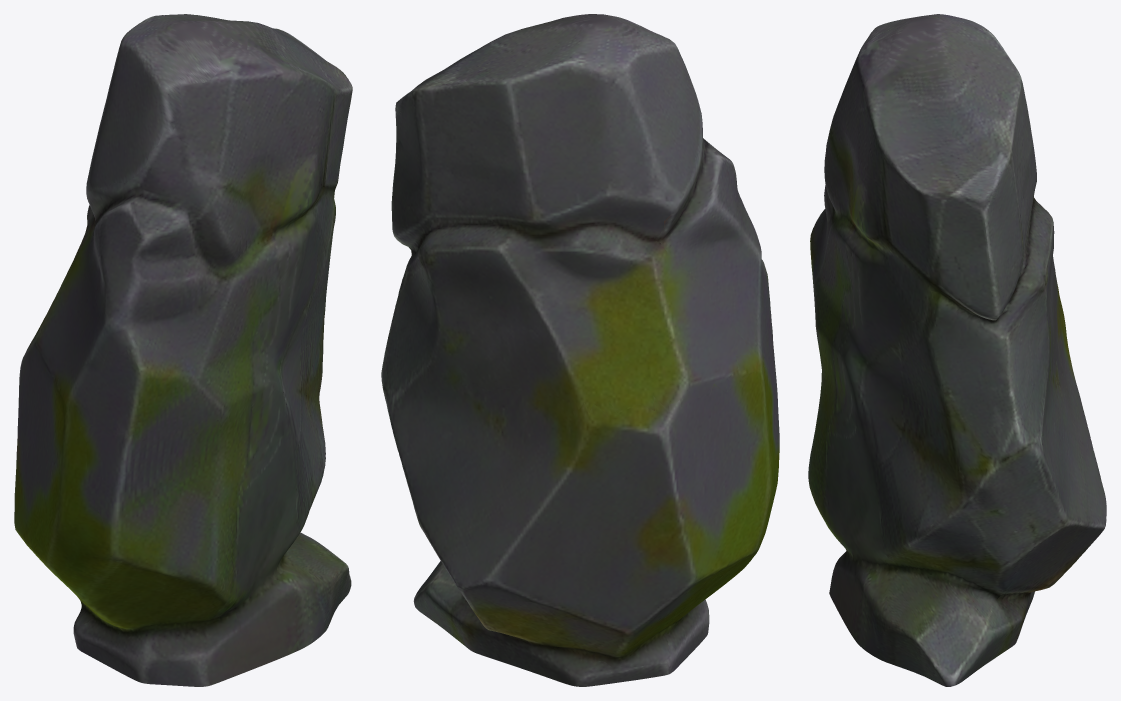
Rendered from Gib_RightForeArm.gltf.
3 renders of one model, left to right at view 1: azimuth 30°, elevation 25°; view 2: azimuth 150°, elevation 25°; view 3: azimuth 270°, elevation 25°, orthographic. The views are drawn at different scales.
Parts seen in each view (by area): view 1: Gib_RightForeArm; view 2: Gib_RightForeArm; view 3: Gib_RightForeArm.
Boxes of the visible parts, x1,y1,x2,y2 form: Gib_RightForeArm: [14, 14, 352, 686]; Gib_RightForeArm: [381, 14, 779, 686]; Gib_RightForeArm: [808, 14, 1106, 686].
Bounding box in the file's own units: 0.4415 × 0.8001 × 0.3699.
1 material, 1 textured.
